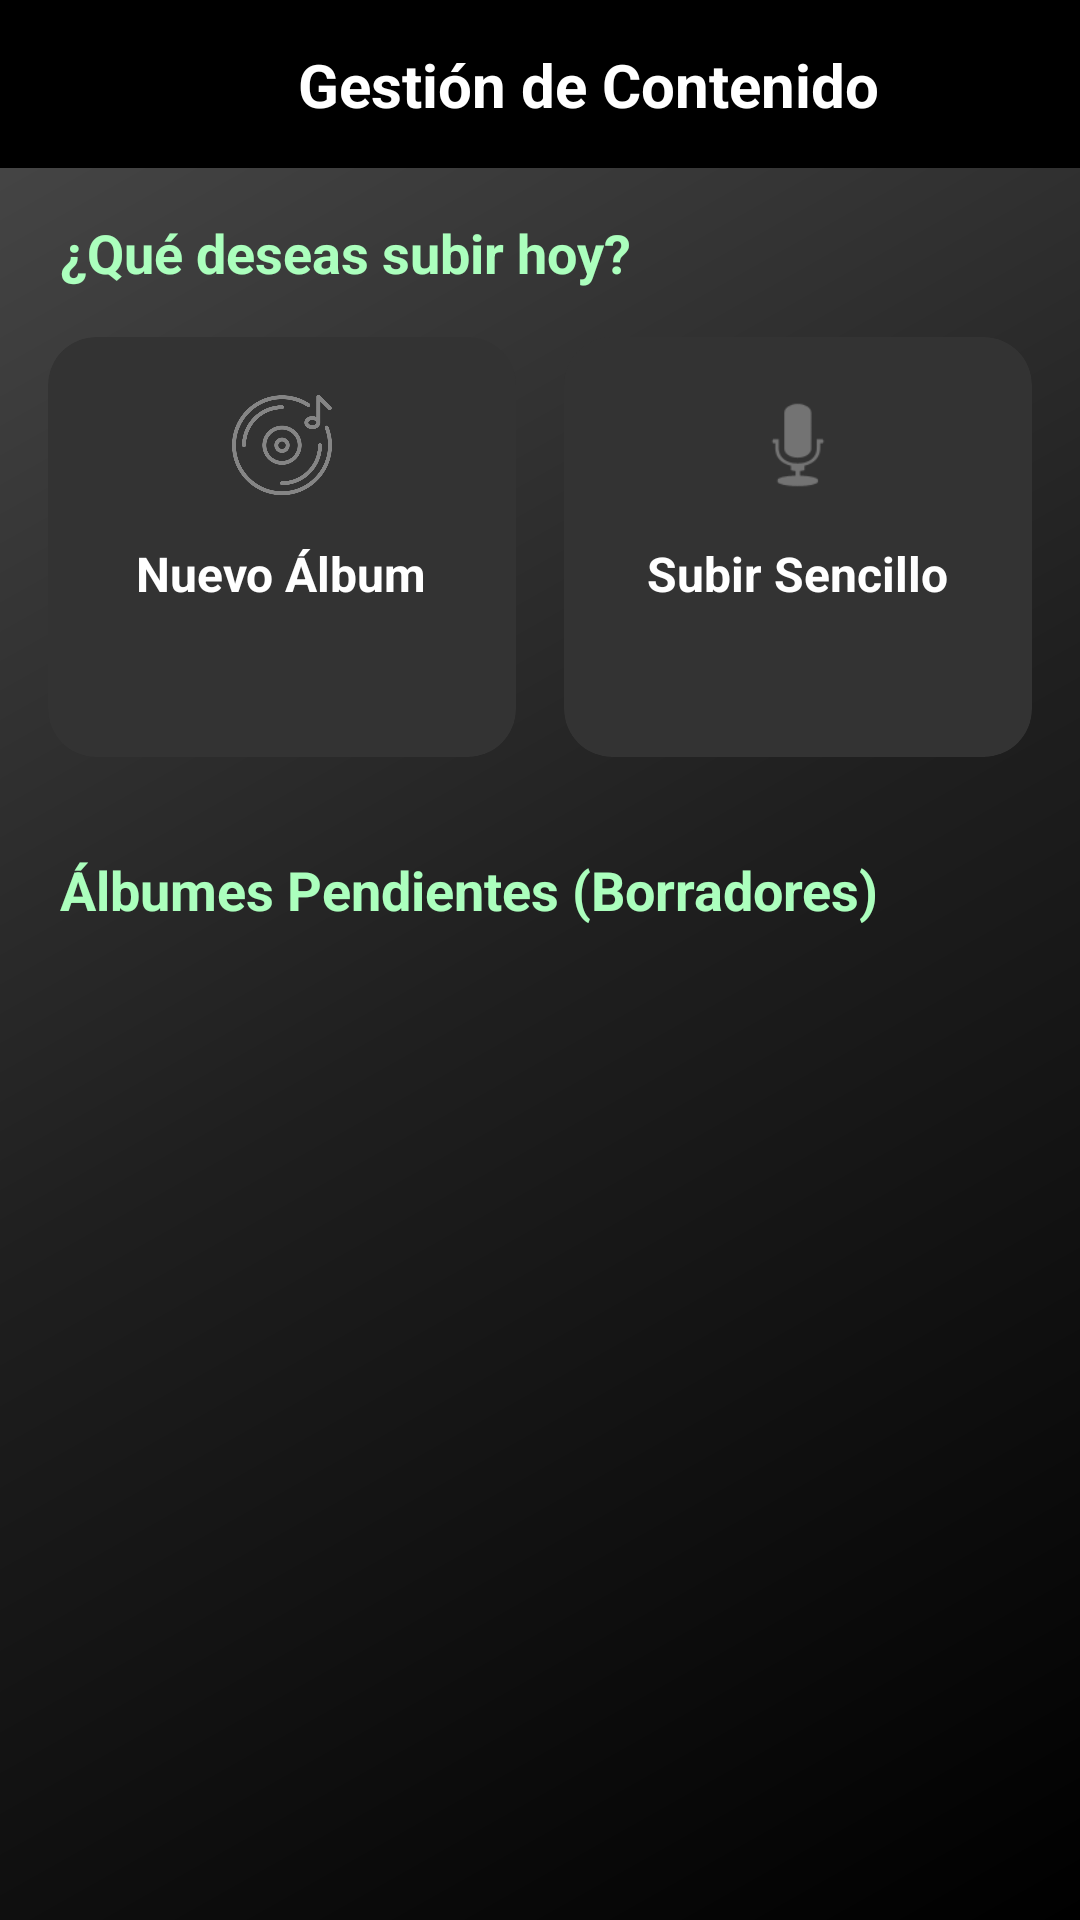

Icons on this 1080px×1920px Android screen, each with the point to tap as [x,y]:
album: [282,445]
speak now: [798,445]
